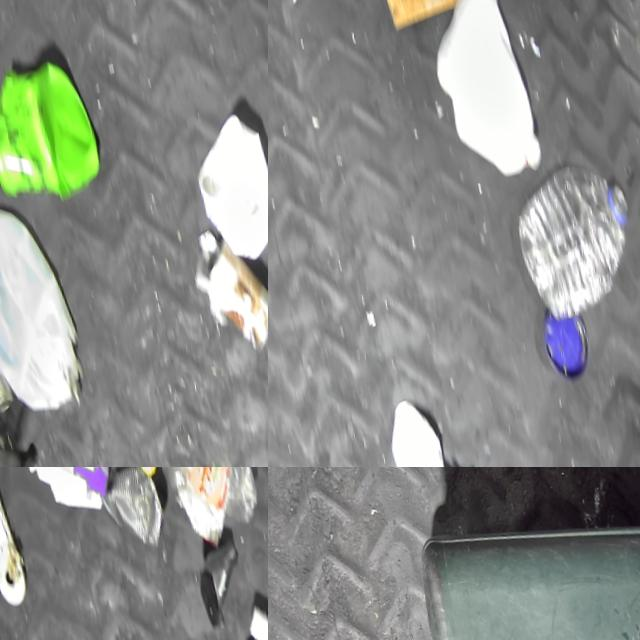can: (176, 226, 268, 369), (97, 467, 159, 557)
milk_jug: (414, 0, 550, 210), (0, 181, 80, 423), (176, 113, 268, 275)
non_white_jug: (0, 52, 98, 213), (7, 467, 116, 526)
plastic_bottle: (493, 169, 640, 339), (119, 467, 254, 548)
